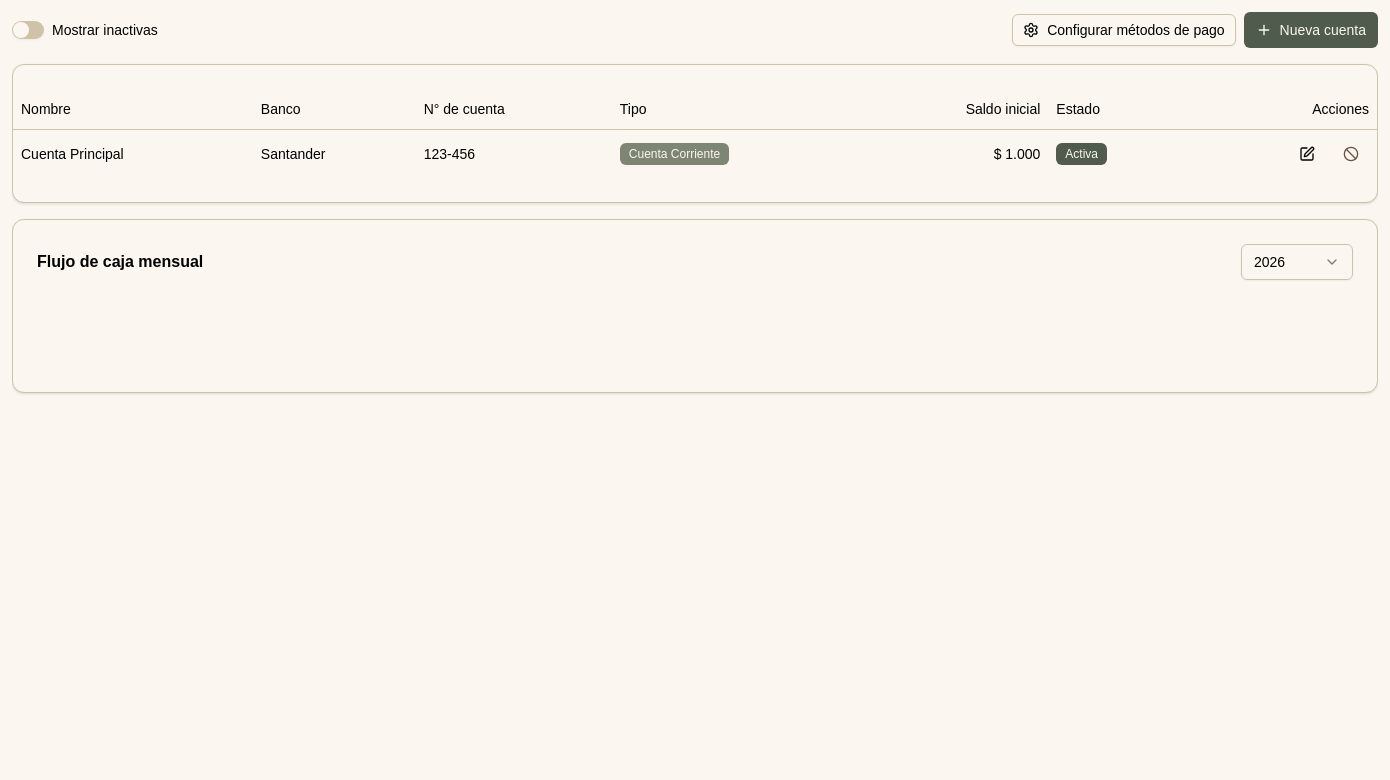
Scenario: BankAccountsTab › shows inactive accounts when "Mostrar inactivas" is toggled
Click the switch at [28, 30], box [12,21,44,39]
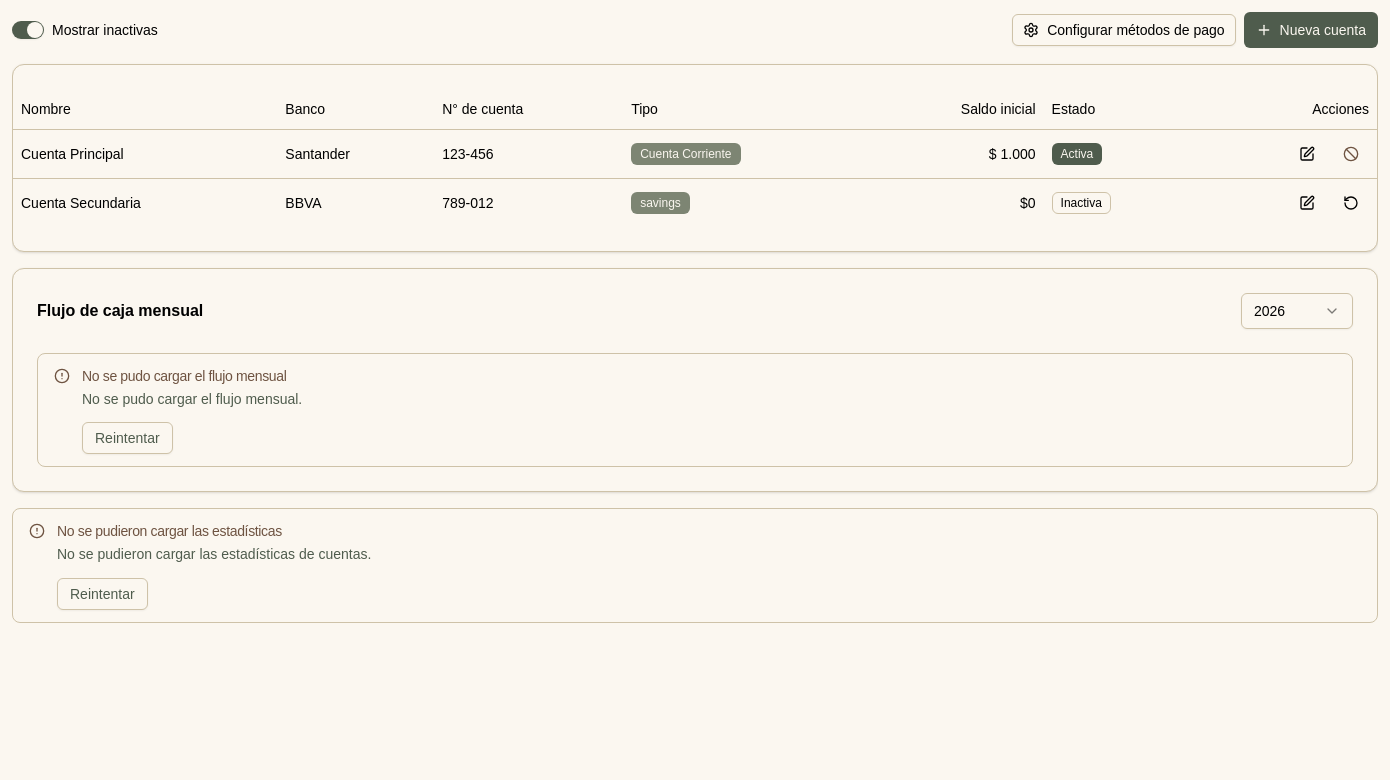
Check: the text "Cuenta Secundaria" is shown, box [13,178,277,226]
Check: the text "Inactiva" is shown, box [1052,192,1111,214]
